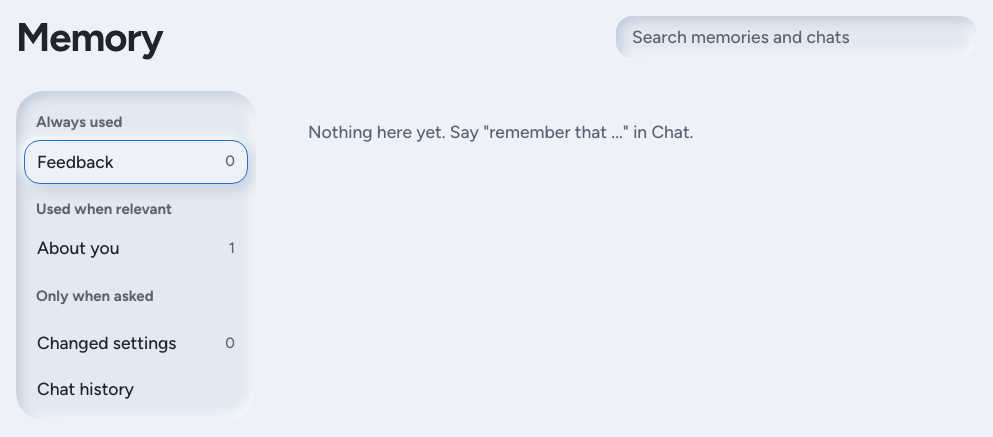
Test: Memory page: search and chat history › a failed conversation list shows Try again, which reloads it
The width and height of the screenshot is (993, 437).
Click the button "Chat history".
click(136, 389)  # box x1=24 y1=367 x2=248 y2=412
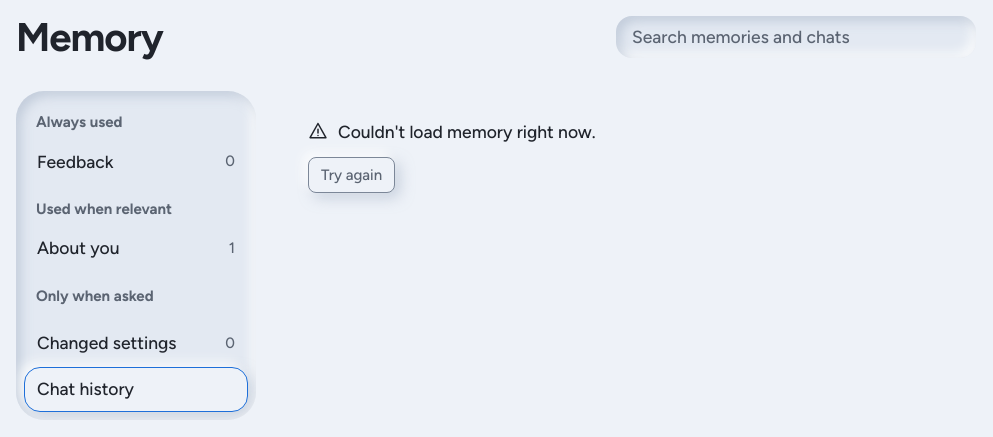
expect the message shows "Couldn't load memory right now.": met, box x1=338 y1=121 x2=596 y2=142
Click the button "Try again".
click(352, 175)  # box x1=308 y1=157 x2=395 y2=193
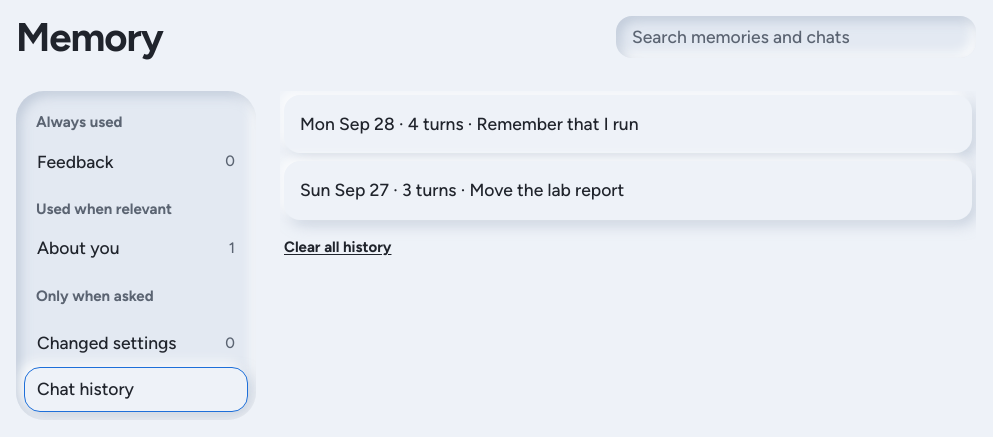
expect the button "Mon Sep 28 · 4 turns · Remember that I run" is shown: met, box x1=284 y1=95 x2=972 y2=153
